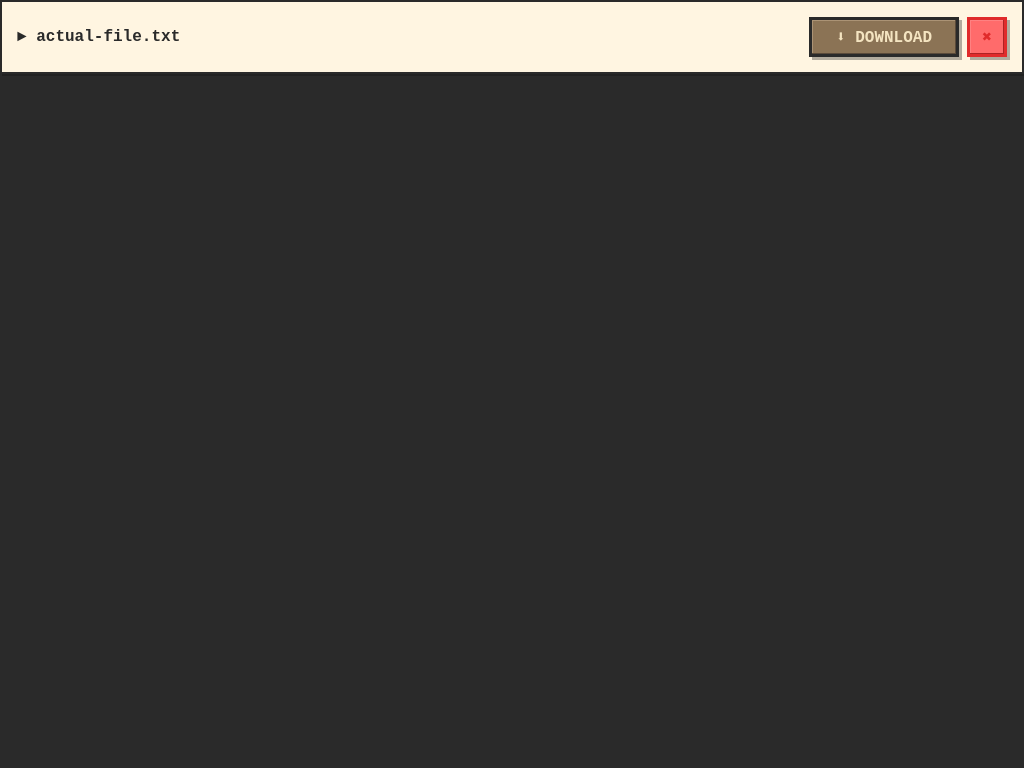
Test: FileList › closes when the modal is cancelled
Click the button named "delete" at (987, 37), box [967, 17, 1007, 57]
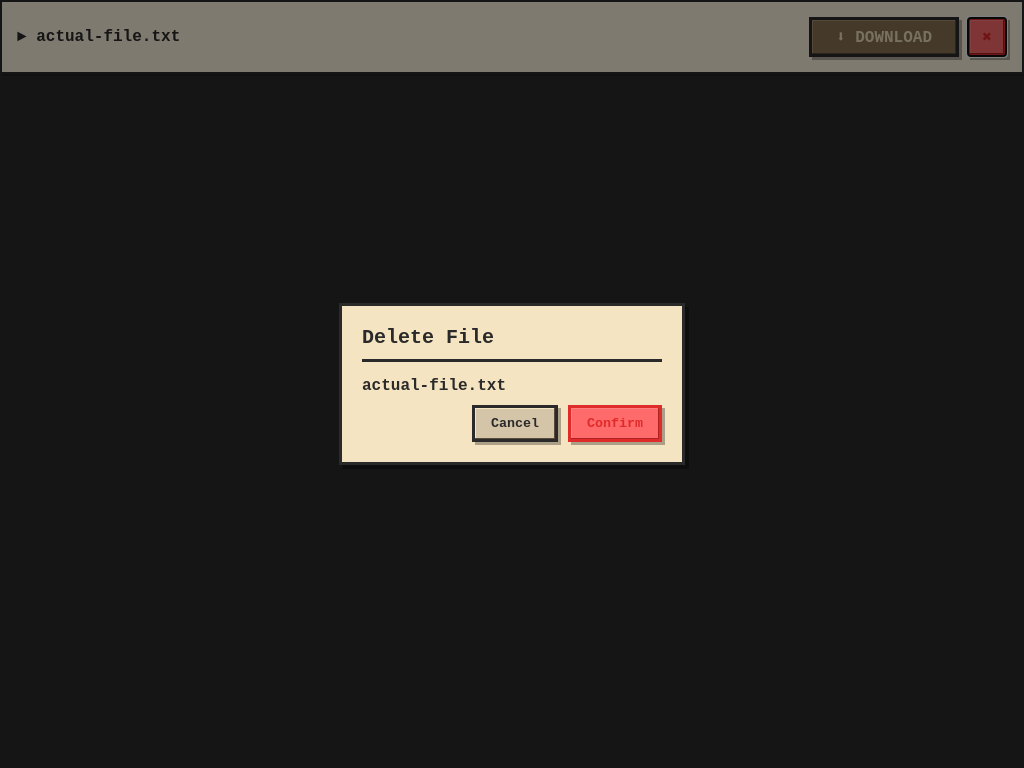
expect the button "Cancel" is shown: met
Click the button "Cancel" at (515, 424), box [472, 405, 558, 442]
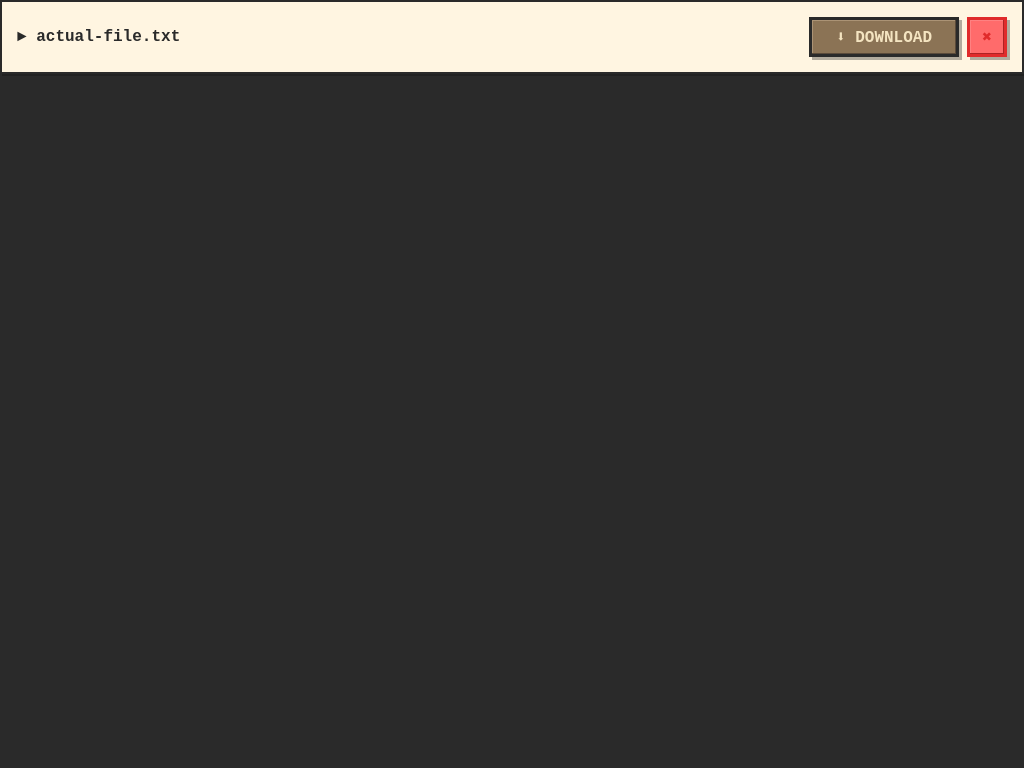
expect the button "Confirm" is gone: met
expect the button "Cancel" is gone: met
